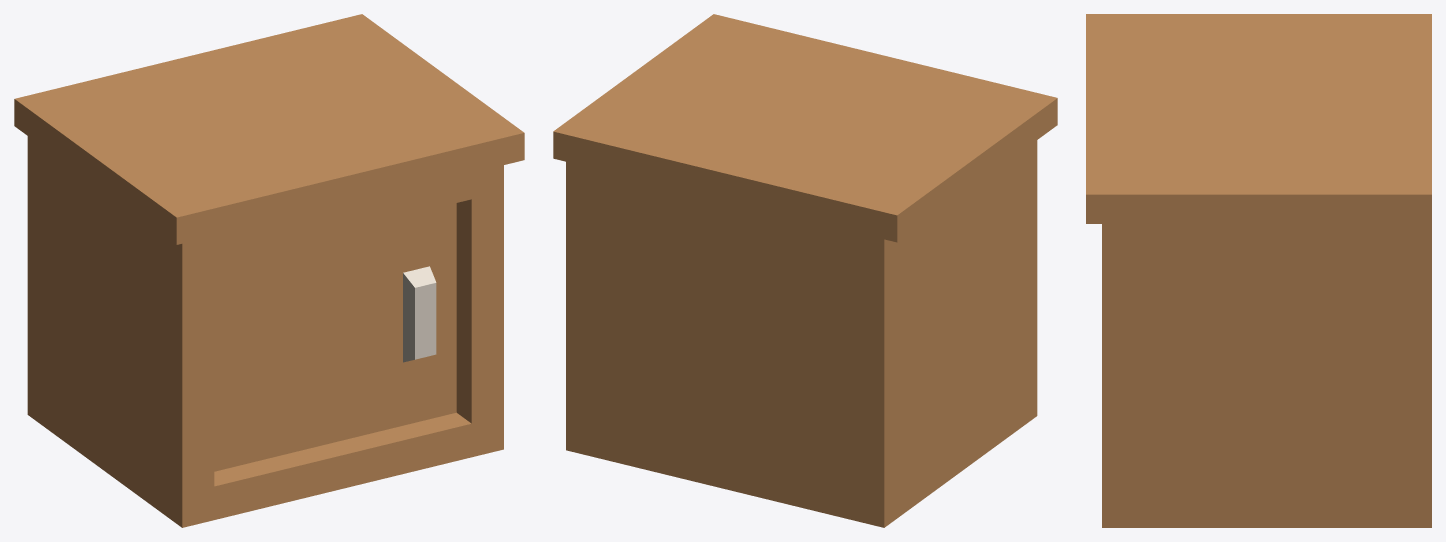
Rendered from kitCabinetBed.glb.
3 renders of one model, left to right at view 1: azimuth 30°, elevation 25°; view 2: azimuth 150°, elevation 25°; view 3: azimuth 270°, elevation 25°, orthographic. The views are drawn at different scales.
Visible parts, largest first — view 1: kitCabinetBed_wood, kitCabinetBed_metal; view 2: kitCabinetBed_wood; view 3: kitCabinetBed_wood.
Part boxes in pixels (x1=…): kitCabinetBed_wood: x1=14, y1=14, x2=524, y2=527; kitCabinetBed_metal: x1=403, y1=266, x2=436, y2=362; kitCabinetBed_wood: x1=553, y1=14, x2=1057, y2=527; kitCabinetBed_wood: x1=1086, y1=14, x2=1431, y2=527.
Size of the model in its own units: 0.532 by 0.4664 by 0.43.
